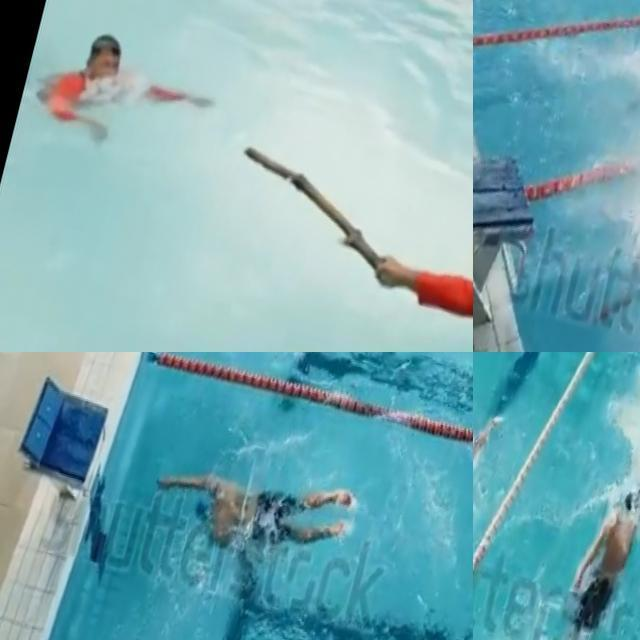3: (24, 14, 192, 178)
6: (127, 437, 403, 628), (548, 446, 640, 640), (473, 352, 508, 615)
drowning: (325, 158, 473, 352)
